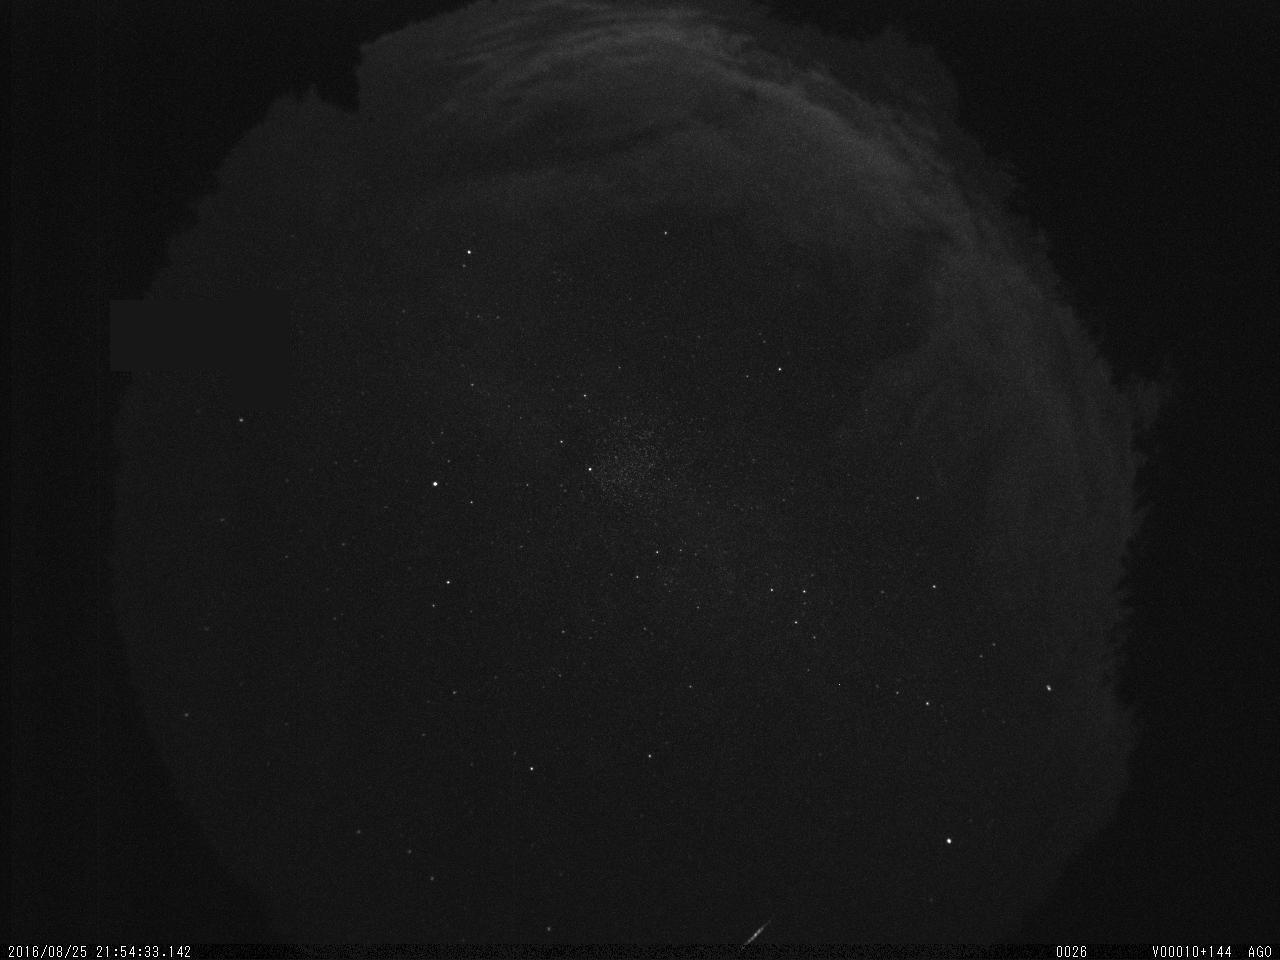meteor: (723, 907, 792, 960)
